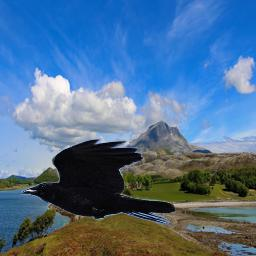Crow: (21, 139, 177, 226)
